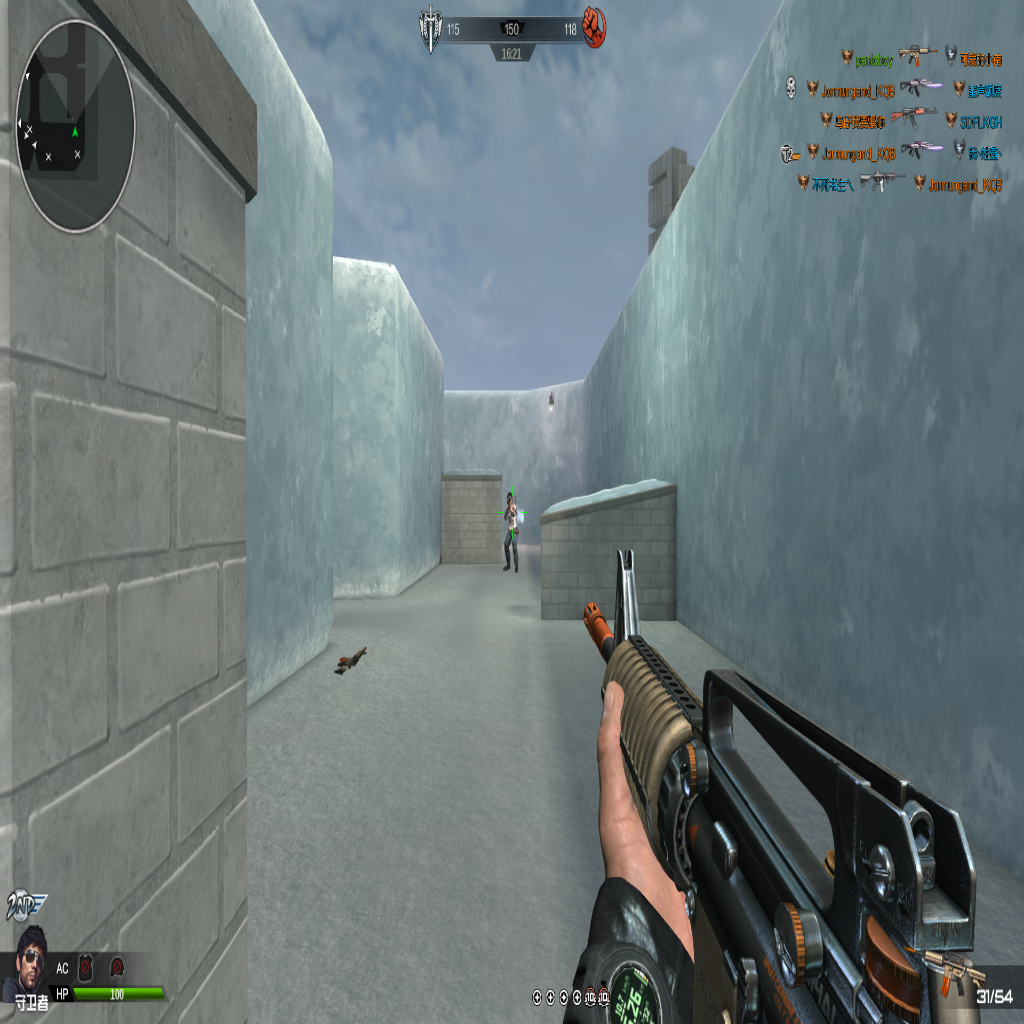tt: (501, 490, 519, 572)
